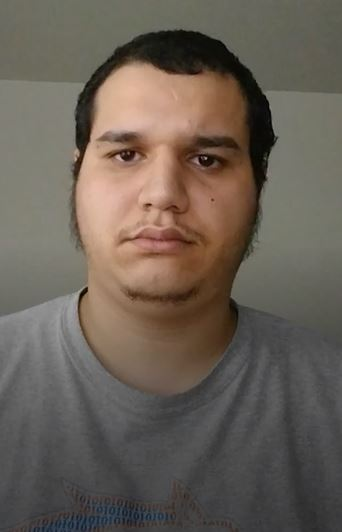Not Sleeping: (91, 124, 254, 186)
